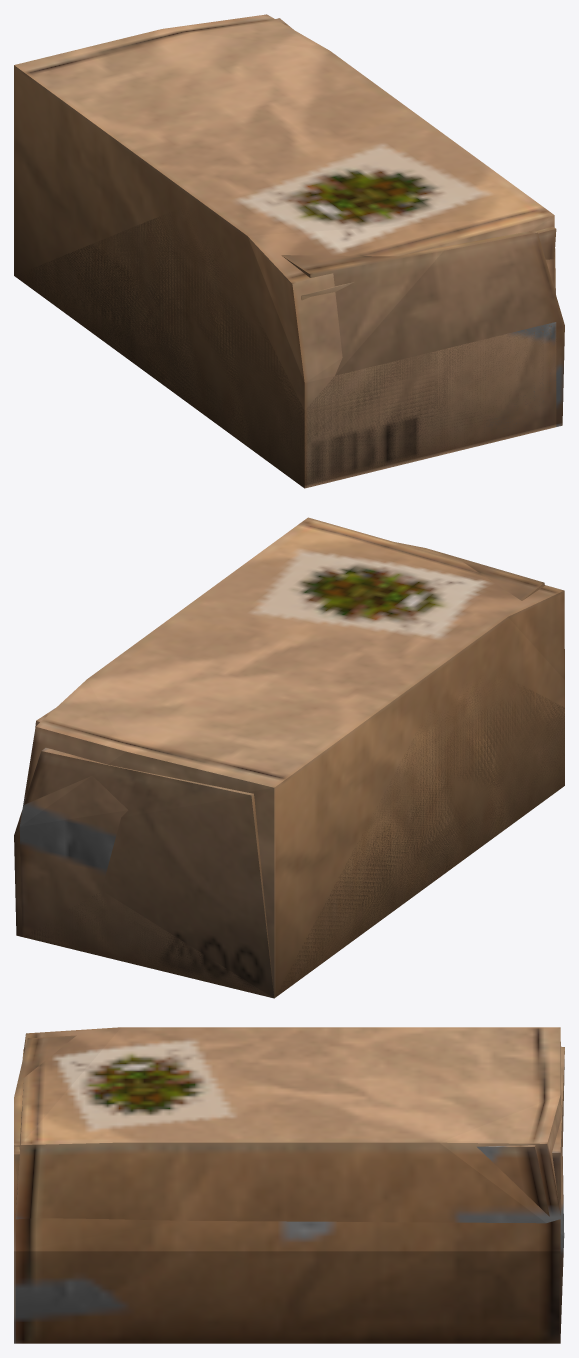
File: Packages.fbx
3 renders of one model, top to bottom at view 1: azimuth 30°, elevation 25°; view 2: azimuth 150°, elevation 25°; view 3: azimuth 270°, elevation 25°, orthographic. The views are drawn at different scales.
Visible parts, largest first — view 1: SM_PRP_Package_A_01, SM_PRP_Package_A_03, SM_PRP_Package_A_02; view 2: SM_PRP_Package_A_01, SM_PRP_Package_A_03, SM_PRP_Package_A_02; view 3: SM_PRP_Package_A_01, SM_PRP_Package_A_03, SM_PRP_Package_A_02.
Part boxes in pixels (bbox=[...]): SM_PRP_Package_A_01: bbox=[14, 14, 556, 488]; SM_PRP_Package_A_03: bbox=[17, 204, 564, 487]; SM_PRP_Package_A_02: bbox=[16, 18, 556, 487]; SM_PRP_Package_A_01: bbox=[19, 517, 564, 997]; SM_PRP_Package_A_03: bbox=[14, 542, 564, 998]; SM_PRP_Package_A_02: bbox=[25, 708, 564, 998]; SM_PRP_Package_A_01: bbox=[15, 1027, 564, 1333]; SM_PRP_Package_A_03: bbox=[14, 1035, 564, 1343]; SM_PRP_Package_A_02: bbox=[14, 1049, 549, 1216].
Bounding box in the file's own units: 7.87 × 5.95 × 15.
